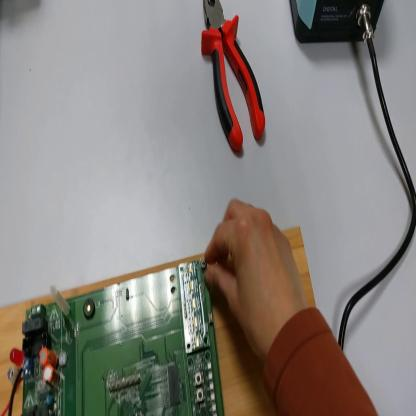hand: (203, 200, 311, 359)
low voltage board: (5, 259, 225, 416)
pliers: (198, 1, 268, 155)
welder station: (291, 1, 386, 49)
working area: (1, 228, 317, 416)
